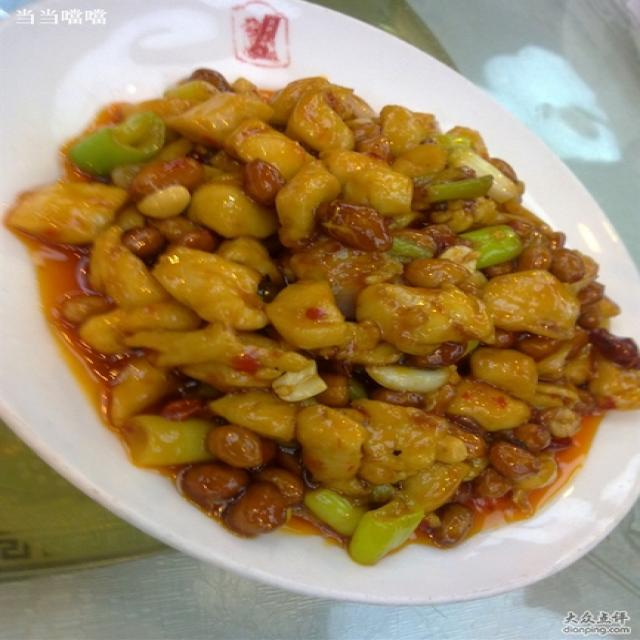鸡肉料理 含炸鸡: (12, 13, 637, 597)
